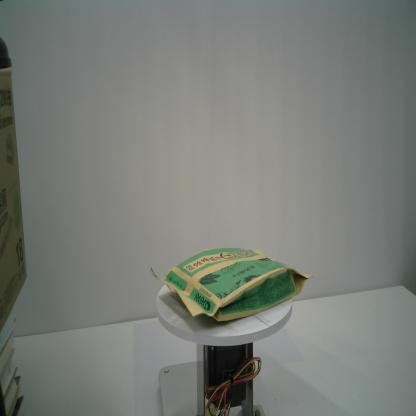Dried Food: (148, 246, 314, 324)
